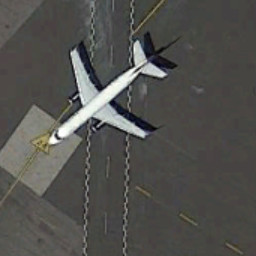Airplane: (41, 22, 177, 159)
